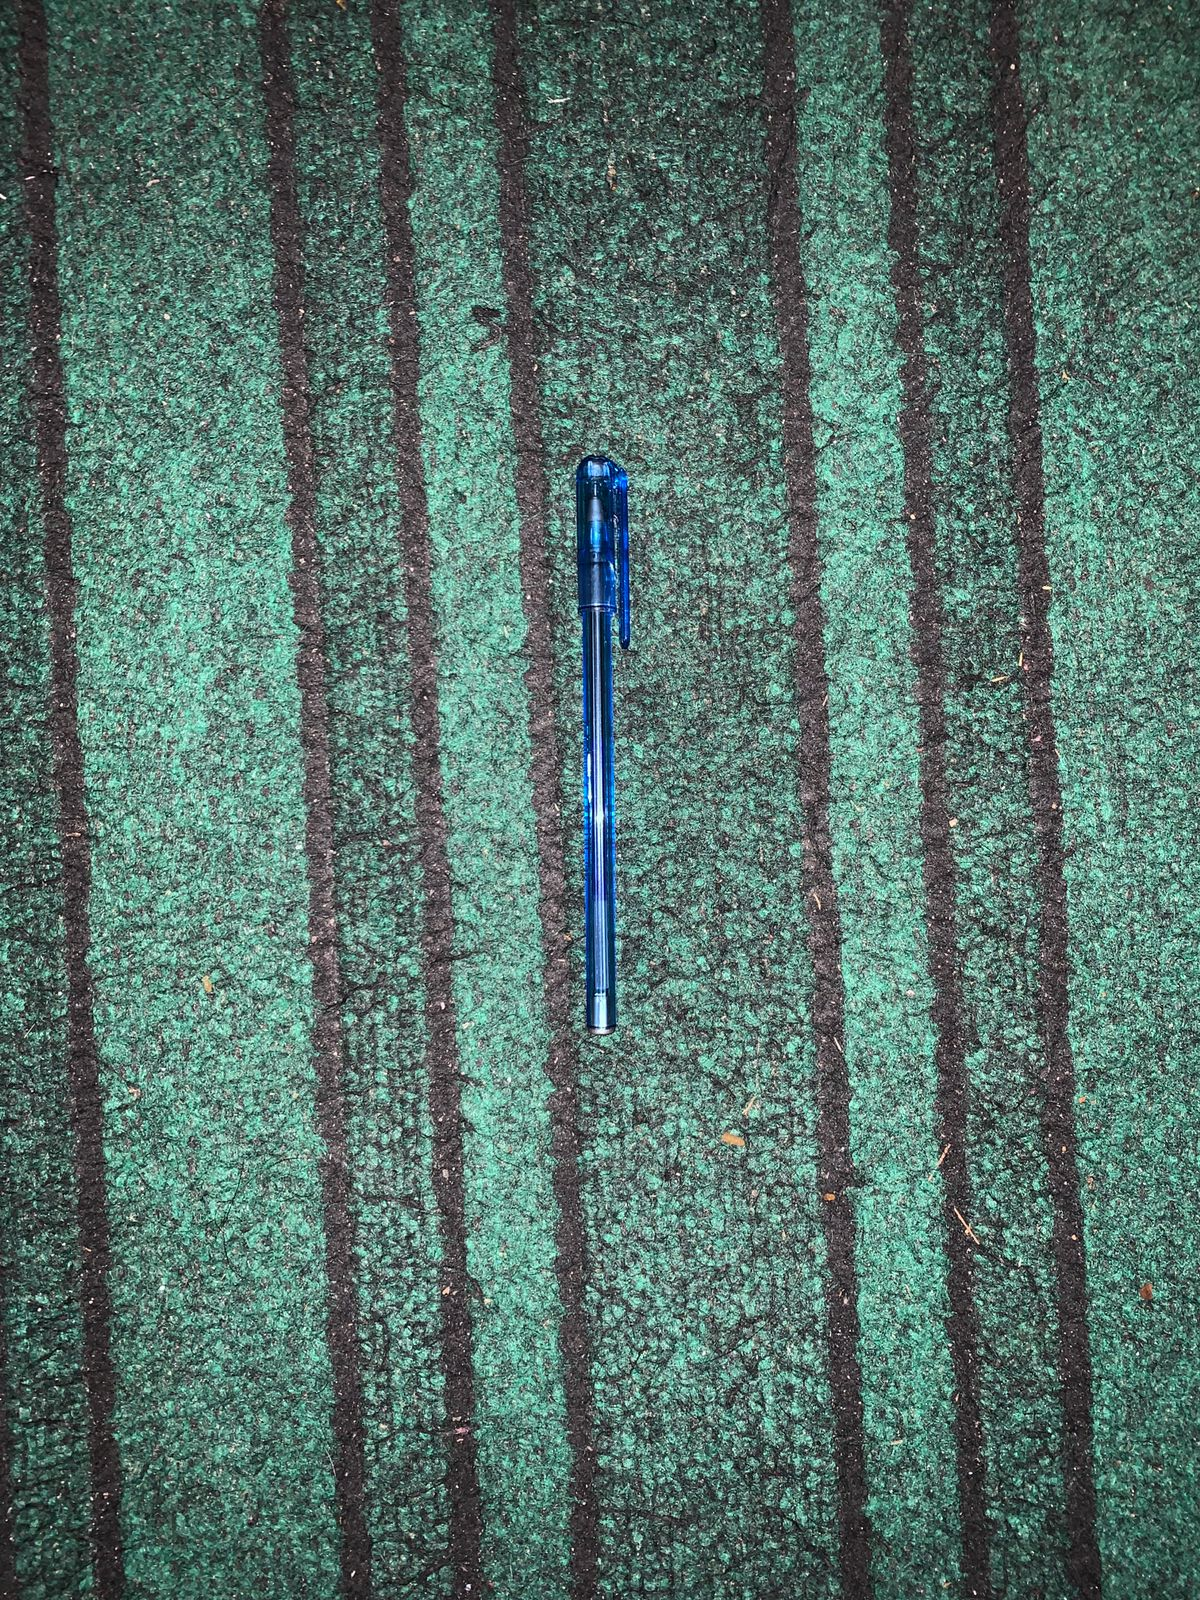pen: (484, 406, 716, 1073)
